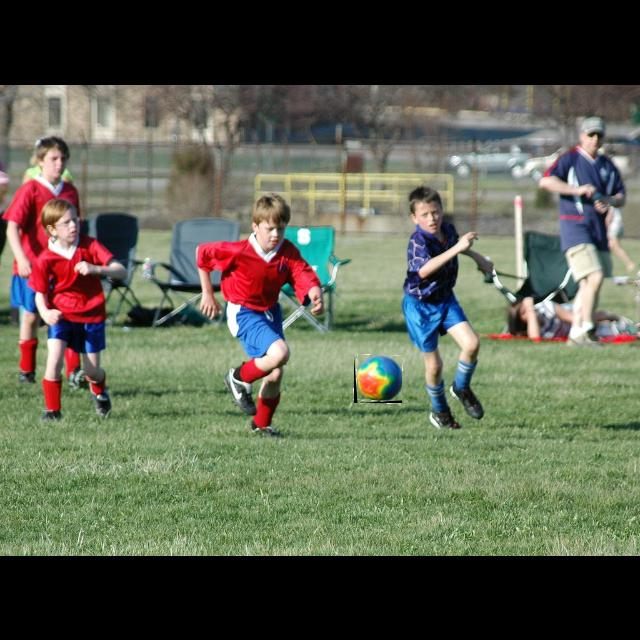Football: (354, 355, 402, 403)
